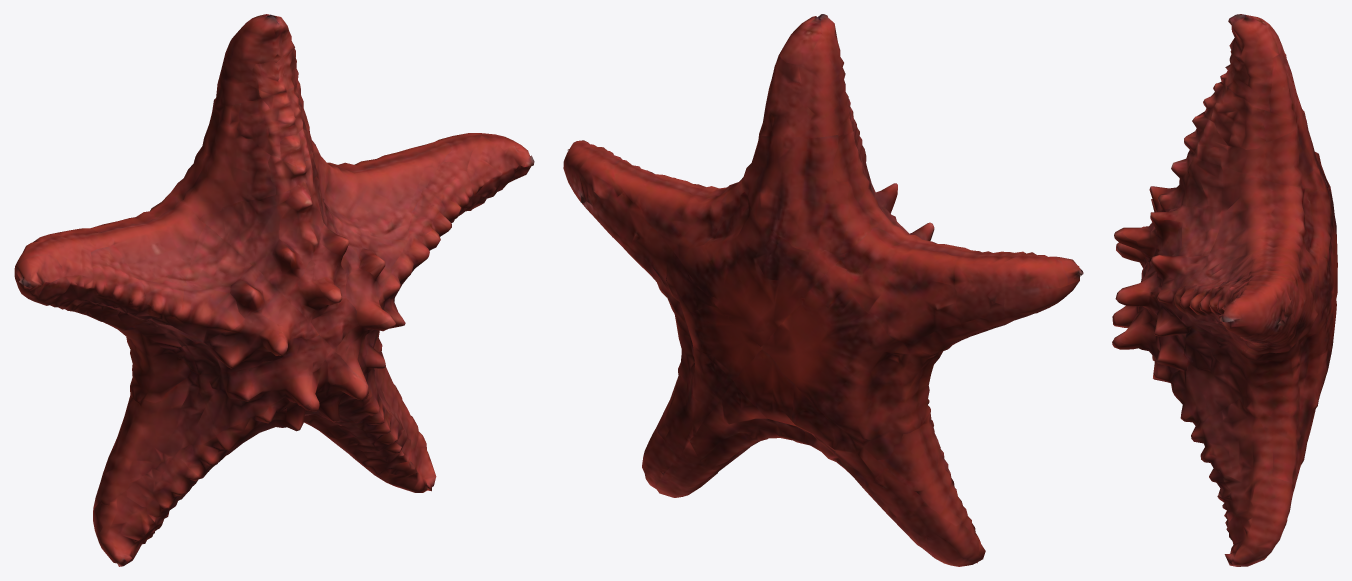
The model's file is star1.glb.
The picture shows the model from 3 angles, left to right: view 1: azimuth 30°, elevation 25°; view 2: azimuth 150°, elevation 25°; view 3: azimuth 270°, elevation 25°; orthographic projection. The views are drawn at different scales.
Parts seen in each view (by area): view 1: mesh_node; view 2: mesh_node; view 3: mesh_node.
Boxes of the visible parts, box(x1,y1,x2,y2) form: mesh_node: box(14, 14, 534, 566); mesh_node: box(563, 14, 1083, 566); mesh_node: box(1112, 14, 1337, 566).
Bounding box in the file's own units: 1.9 × 1.81 × 0.7664.
Materials: 1 (1 with a texture image).
